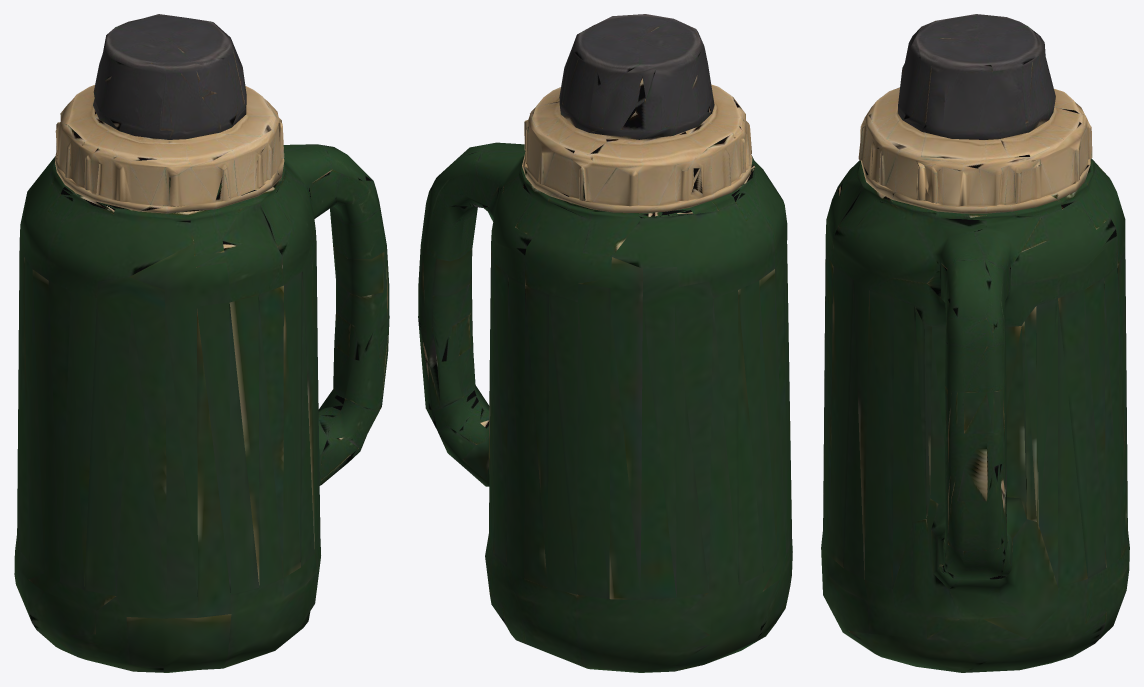
File: galao-terere.glb
3 views of the same model, side by side, from view 1: azimuth 30°, elevation 25°; view 2: azimuth 150°, elevation 25°; view 3: azimuth 270°, elevation 25° (orthographic).
Bounding box in the file's own units: 0.5933 × 0.9517 × 0.4585.
1 material, 1 textured.
